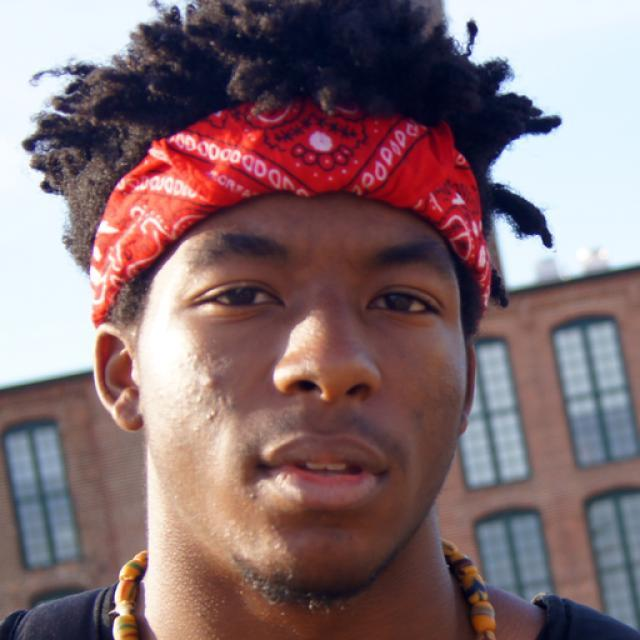neutral: (142, 190, 466, 592)
